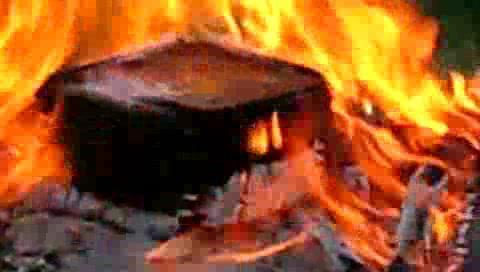fire: (0, 0, 477, 266)
